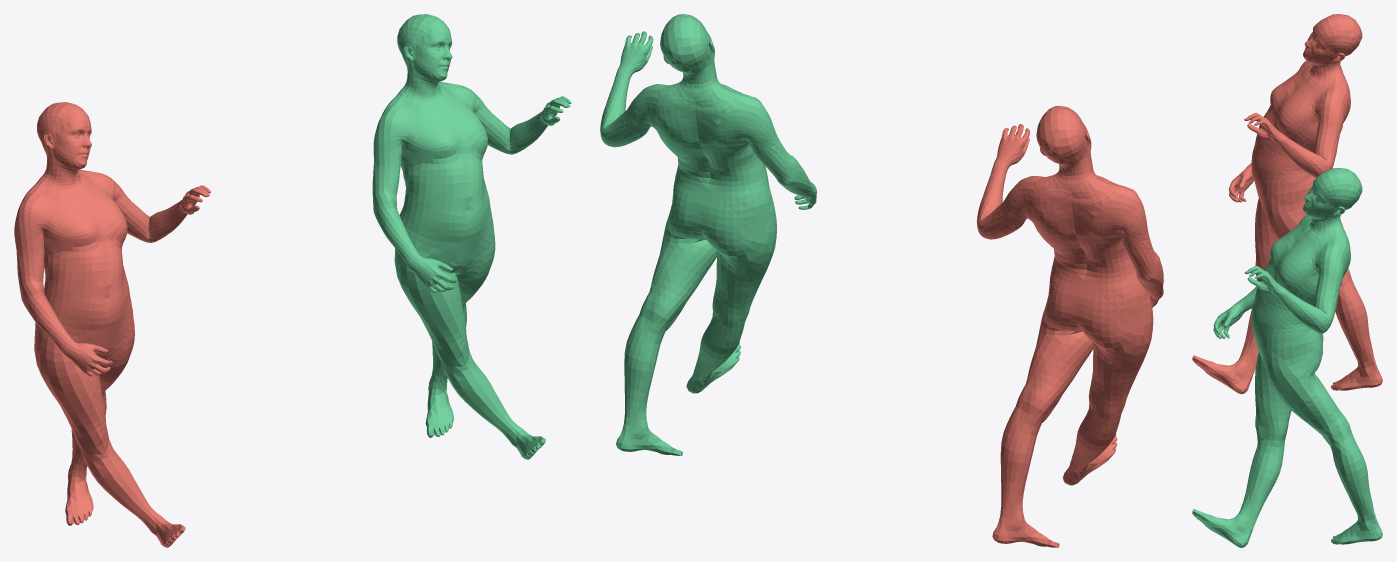
The model's file is pose_207_before_after.glb.
The picture shows the model from 3 angles, left to right: view 1: azimuth 30°, elevation 25°; view 2: azimuth 150°, elevation 25°; view 3: azimuth 270°, elevation 25°; orthographic projection. The views are drawn at different scales.
Parts seen in each view (by area): view 1: poseshield_green, input_red; view 2: poseshield_green, input_red; view 3: poseshield_green, input_red.
Boxes of the visible parts, x1=… form: poseshield_green: x1=372, y1=14, x2=571, y2=459; input_red: x1=14, y1=102, x2=210, y2=547; poseshield_green: x1=600, y1=14, x2=816, y2=455; input_red: x1=976, y1=105, x2=1163, y2=547; poseshield_green: x1=1192, y1=167, x2=1382, y2=547; input_red: x1=1192, y1=14, x2=1382, y2=394.
Size of what is drawn, in the model's own units: 2.14 by 1.63 by 0.7679.
